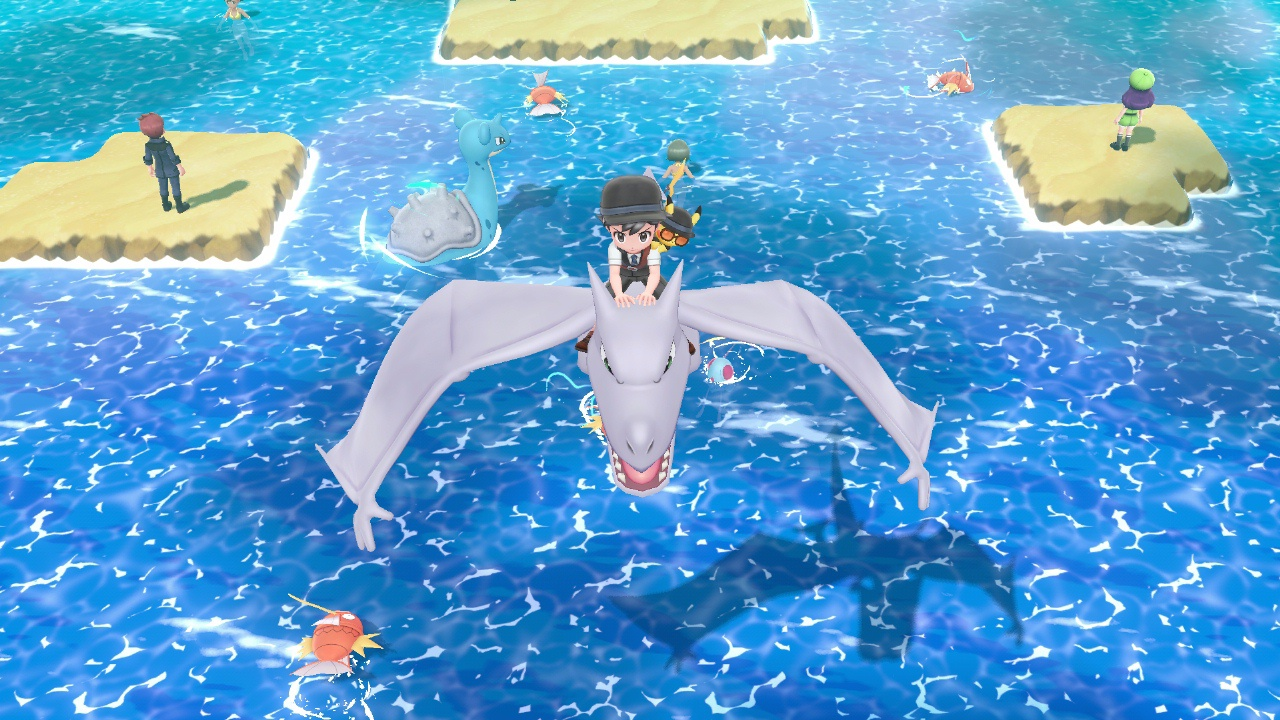Red: (291, 605, 381, 675), (521, 69, 566, 118), (924, 64, 975, 92)
